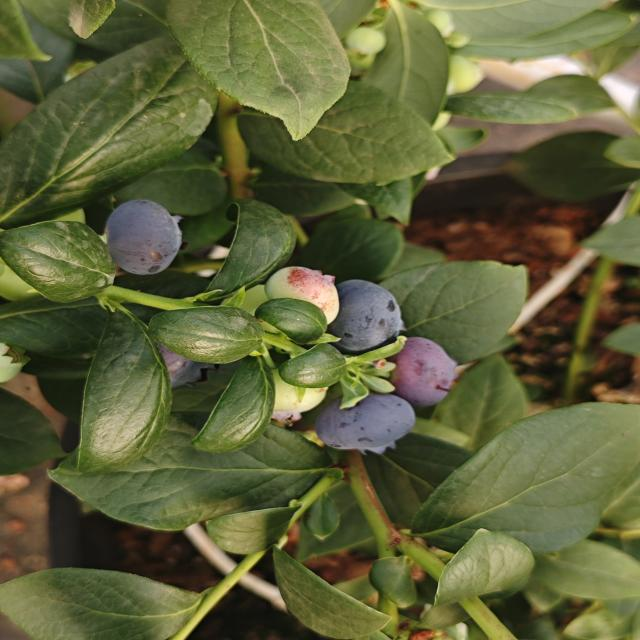ripe: (317, 396, 416, 449), (106, 199, 178, 267), (378, 338, 454, 401), (338, 280, 402, 347), (142, 341, 215, 390)
